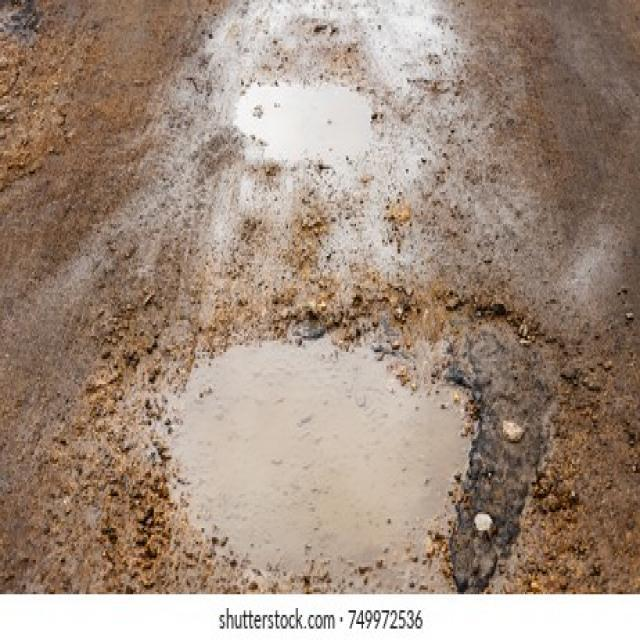Pothole: (130, 322, 480, 588), (235, 78, 378, 170)
